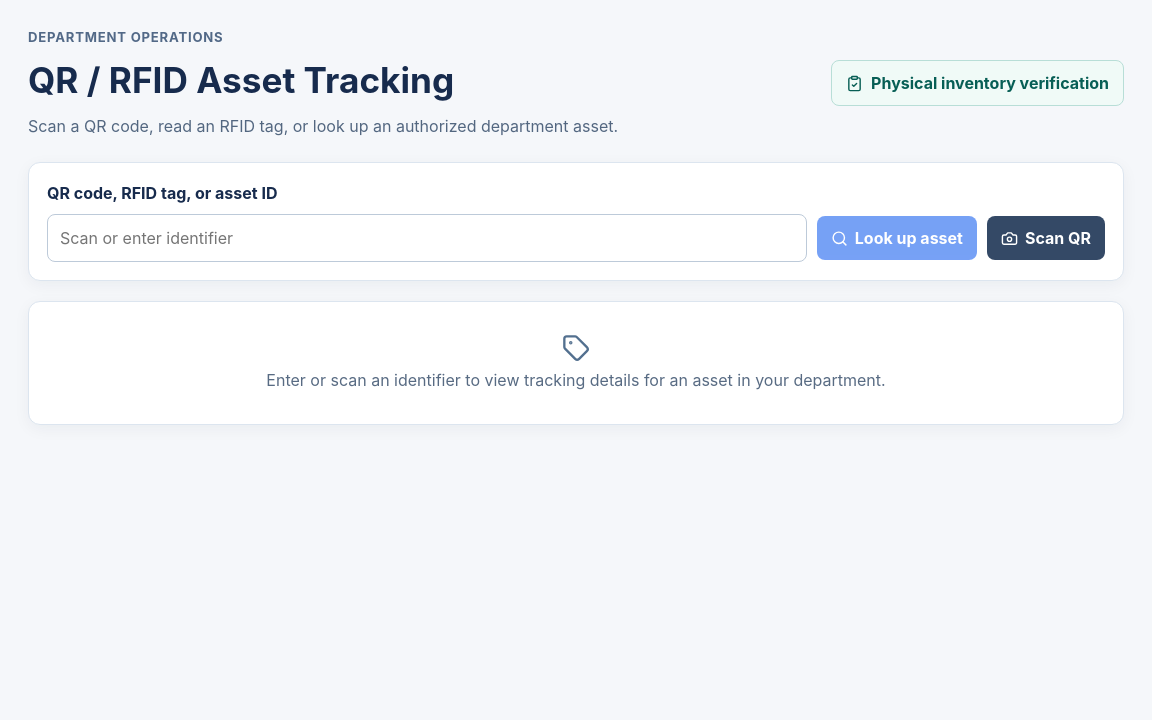
Test case: looks up authorized department assets and displays tracking details
Type "QR-21" into the field labelled "QR code, RFID tag, or asset ID" at {"x": 427, "y": 238}, box [47, 214, 807, 262]
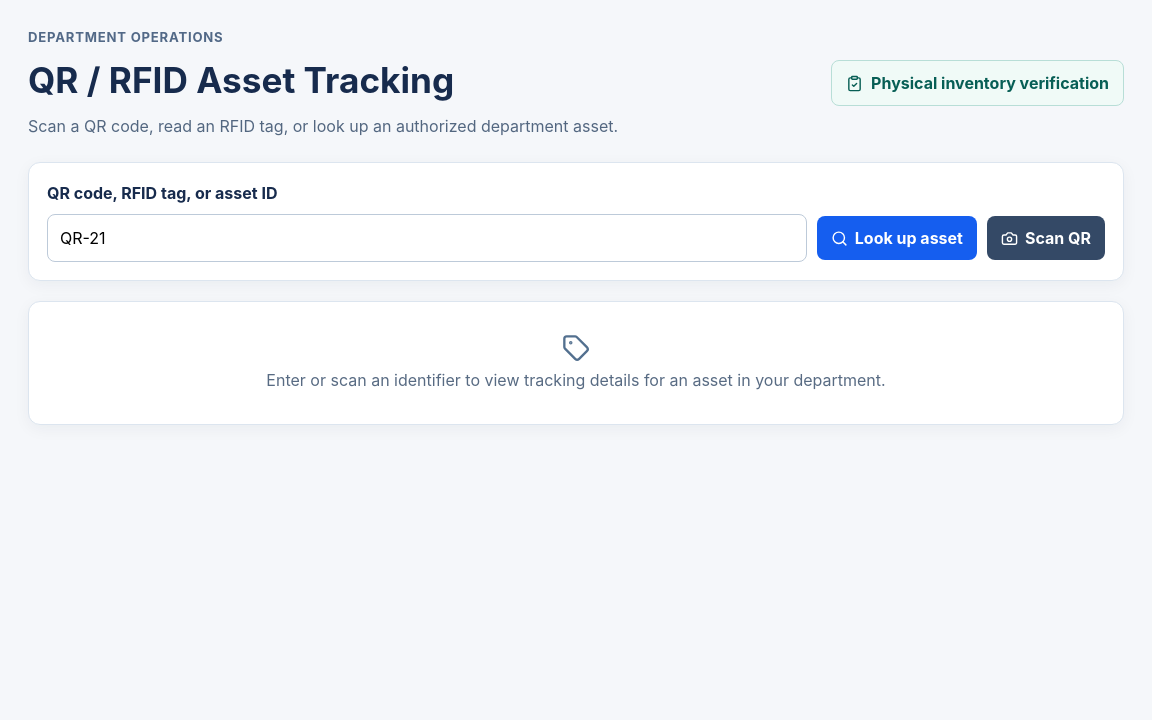
Click the button "Look up asset" at {"x": 897, "y": 238}, box [817, 216, 977, 260]
(page scrolled)
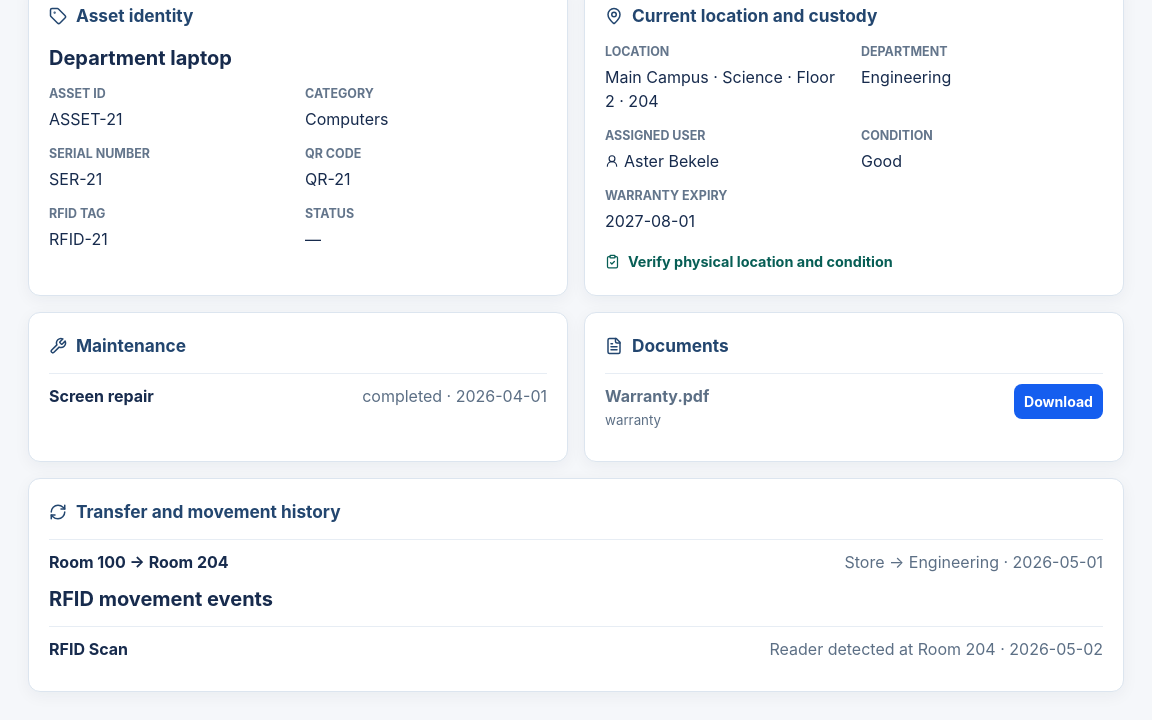
Expected: the heading "Department laptop" is shown, [49, 46, 232, 70]
Expected: the text "ASSET-21" is shown, [49, 109, 122, 129]
Expected: the text "Main Campus · Science · Floor 2 · 204" is shown, [605, 65, 847, 113]
